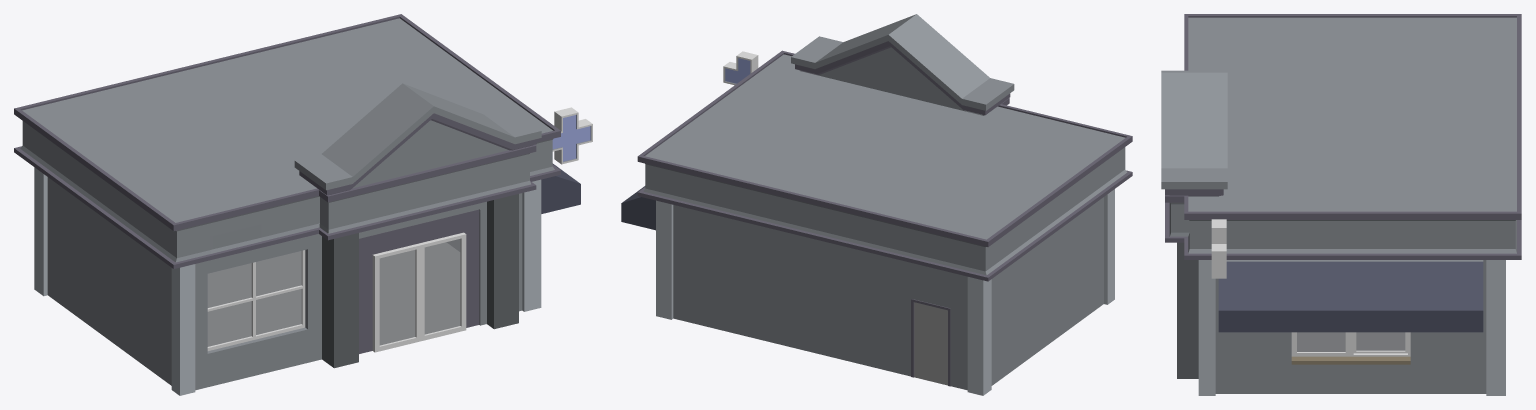
File: Pharmacy_New_Cut.fbx
3 renders of one model, left to right at view 1: azimuth 30°, elevation 25°; view 2: azimuth 150°, elevation 25°; view 3: azimuth 270°, elevation 25°, orthographic. The views are drawn at different scales.
Parts seen in each view (by area): view 1: pharmBuilding, buildingTrmi, pharmWindows, brick1, outer_Columns, windowFrames, awning1, cross, cross_exterior; view 2: pharmBuilding, buildingTrmi, outer_Columns, rearDoor, awning1; view 3: pharmBuilding, awning1, buildingTrmi, outer_Columns, brick1, pharmWindows, windowFrames, windoow_Ledge, cross_exterior.
Part boxes in pixels (box(x1,y1,x2,y2)): pharmBuilding: box(20, 18, 591, 390); buildingTrmi: box(14, 14, 560, 353); pharmWindows: box(207, 239, 460, 346); brick1: box(322, 194, 518, 368); outer_Columns: box(34, 167, 541, 395); windowFrames: box(207, 232, 466, 352); awning1: box(541, 163, 580, 213); cross: box(552, 115, 590, 161); cross_exterior: box(552, 107, 592, 164); pharmBuilding: box(643, 14, 1127, 390); buildingTrmi: box(637, 41, 1132, 386); outer_Columns: box(656, 189, 1114, 395); rearDoor: box(914, 302, 947, 385); awning1: box(621, 186, 655, 230); pharmBuilding: box(1161, 17, 1516, 393); awning1: box(1218, 261, 1483, 332); buildingTrmi: box(1165, 14, 1521, 259); outer_Columns: box(1198, 260, 1505, 395); brick1: box(1177, 242, 1198, 378); pharmWindows: box(1297, 332, 1405, 351); windowFrames: box(1291, 332, 1410, 356); windoow_Ledge: box(1291, 356, 1410, 364); cross_exterior: box(1211, 219, 1226, 278).
Size of the model in its own units: 35.08 by 19 by 23.98.
